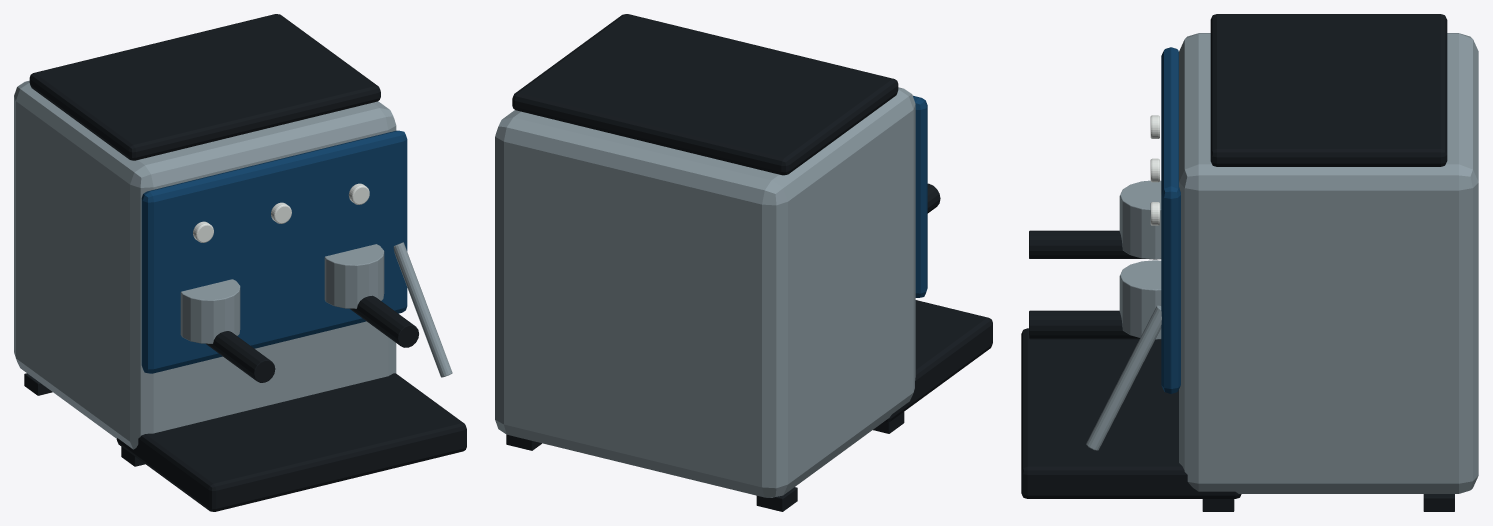
File: edited.glb
The picture shows the model from 3 angles, left to right: view 1: azimuth 30°, elevation 25°; view 2: azimuth 150°, elevation 25°; view 3: azimuth 270°, elevation 25°; orthographic projection. The views are drawn at different scales.
Parts seen in each view (by area): view 1: BODY, FRONT_Panel, TOP_WarmingTray, DRIP_Tray, GROUP_Head, GROUP_Head.001, STEAM_Wand, PORTAFILTER_Handle.001, PORTAFILTER_Handle; view 2: BODY, TOP_WarmingTray, DRIP_Tray, FRONT_Panel, FOOT_Pad.001; view 3: BODY, TOP_WarmingTray, DRIP_Tray, FRONT_Panel, GROUP_Head, PORTAFILTER_Handle.001, PORTAFILTER_Handle, GROUP_Head.001, STEAM_Wand, FOOT_Pad.003.
Boxes of the visible parts, bbox=[...] form: BODY: bbox=[14, 80, 396, 449]; FRONT_Panel: bbox=[141, 130, 407, 373]; TOP_WarmingTray: bbox=[29, 14, 380, 160]; DRIP_Tray: bbox=[116, 373, 466, 511]; GROUP_Head: bbox=[180, 279, 240, 343]; GROUP_Head.001: bbox=[324, 244, 384, 308]; STEAM_Wand: bbox=[393, 242, 452, 377]; PORTAFILTER_Handle.001: bbox=[350, 295, 418, 347]; PORTAFILTER_Handle: bbox=[206, 331, 275, 382]; BODY: bbox=[495, 87, 915, 497]; TOP_WarmingTray: bbox=[512, 14, 898, 175]; DRIP_Tray: bbox=[884, 300, 992, 422]; FRONT_Panel: bbox=[913, 95, 927, 297]; FOOT_Pad.001: bbox=[756, 487, 797, 511]; BODY: bbox=[1179, 33, 1478, 493]; TOP_WarmingTray: bbox=[1210, 14, 1447, 166]; DRIP_Tray: bbox=[1021, 328, 1241, 498]; FRONT_Panel: bbox=[1161, 47, 1180, 393]; GROUP_Head: bbox=[1119, 180, 1161, 259]; PORTAFILTER_Handle.001: bbox=[1029, 310, 1139, 339]; PORTAFILTER_Handle: bbox=[1029, 230, 1144, 258]; GROUP_Head.001: bbox=[1119, 260, 1161, 339]; STEAM_Wand: bbox=[1086, 305, 1161, 450]; FOOT_Pad.003: bbox=[1423, 494, 1454, 511].
Bounding box in the file's own units: 0.4595 × 0.5045 × 0.58.
